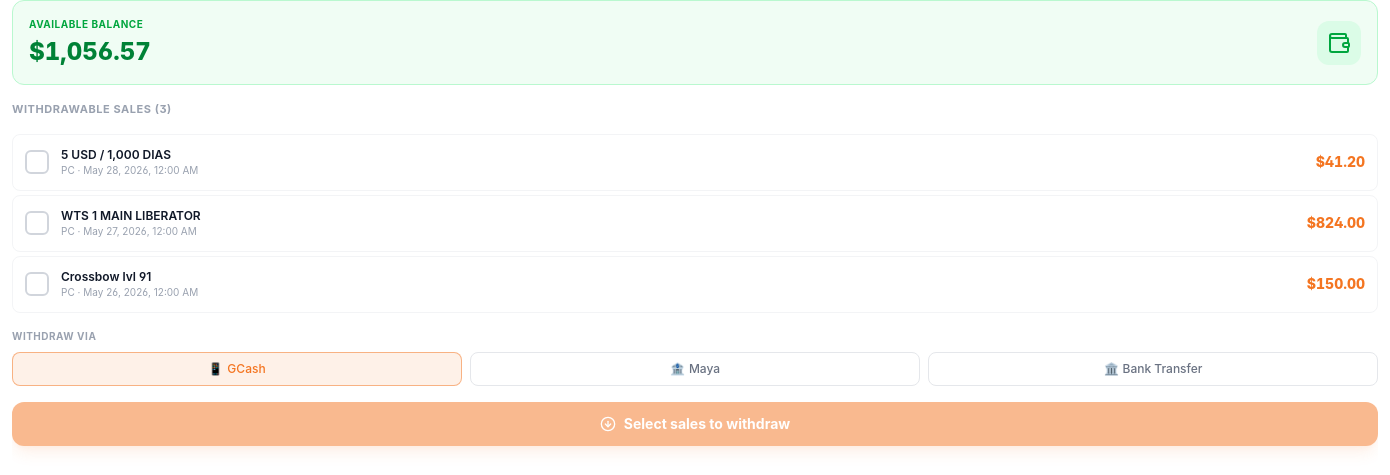
WithdrawalPanel › updates button text when items selected
Note: Click first entry (5 USD / 1,000 DIAS)
Click the button "5 USD / 1,000 DIAS".
click(116, 154)  # box [12,134,1378,190]
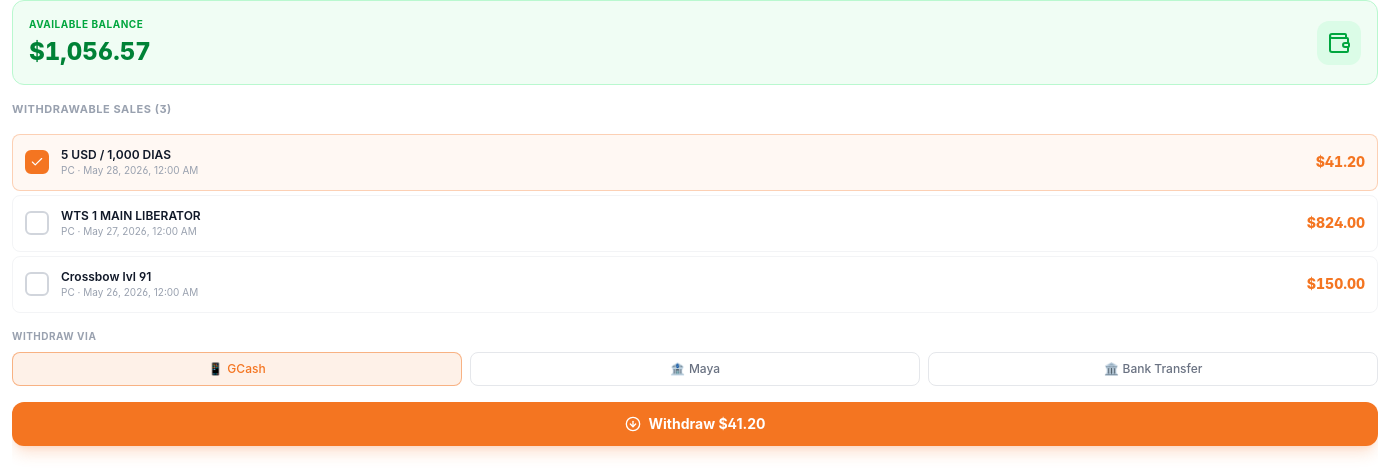
Expected: the button "Withdraw $41.20" is shown, [12,402,1378,446]
